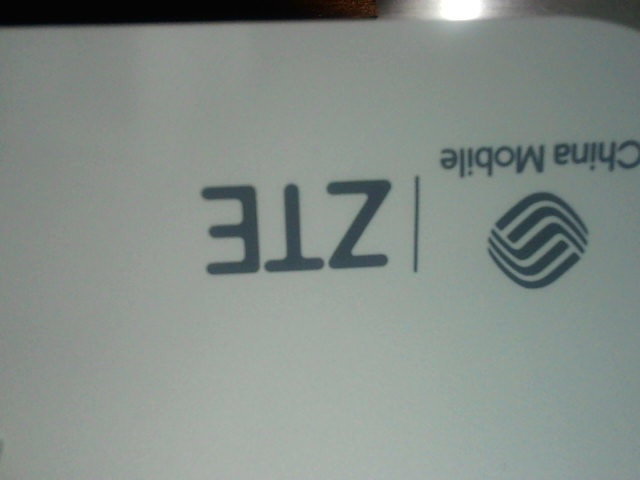AL_ZTEChinaMobile: (192, 129, 639, 294)
